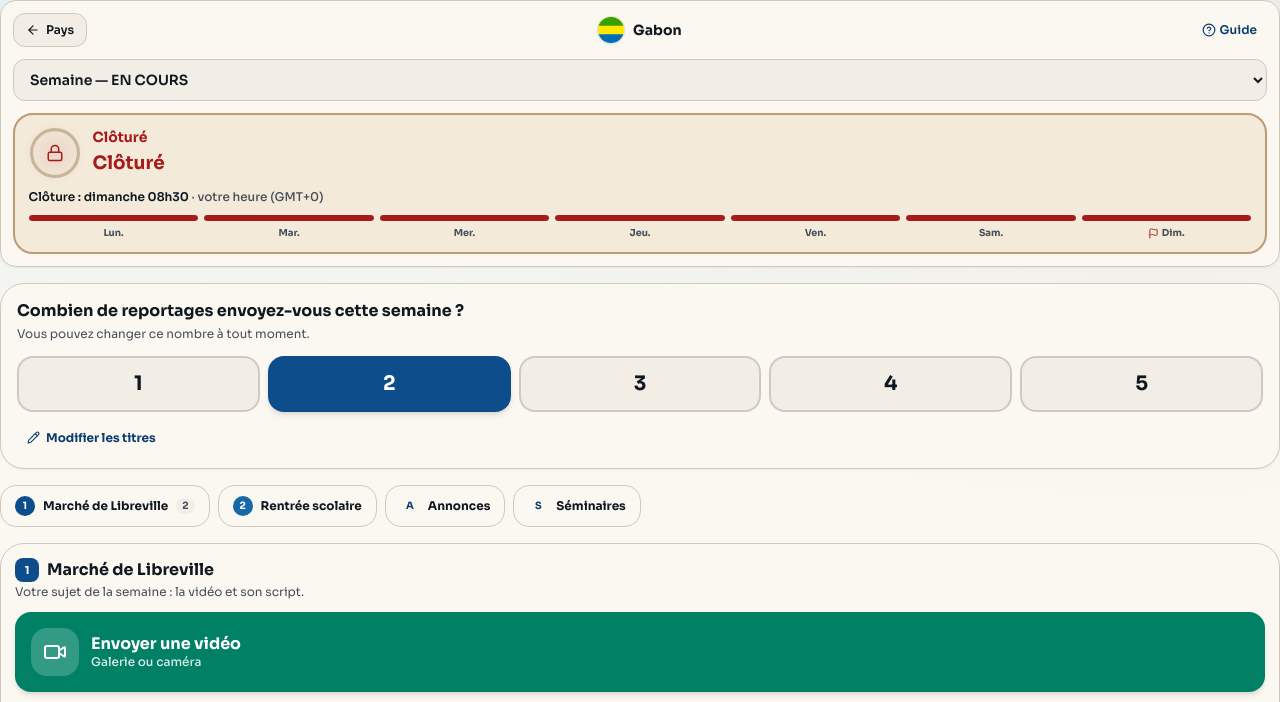
Test case: choisir le nombre de reportages › envoie tous les titres en une seule fois, existants d’abord
The image size is (1280, 702).
Click the button "3".
click(640, 384)  # box [519,356,761,412]
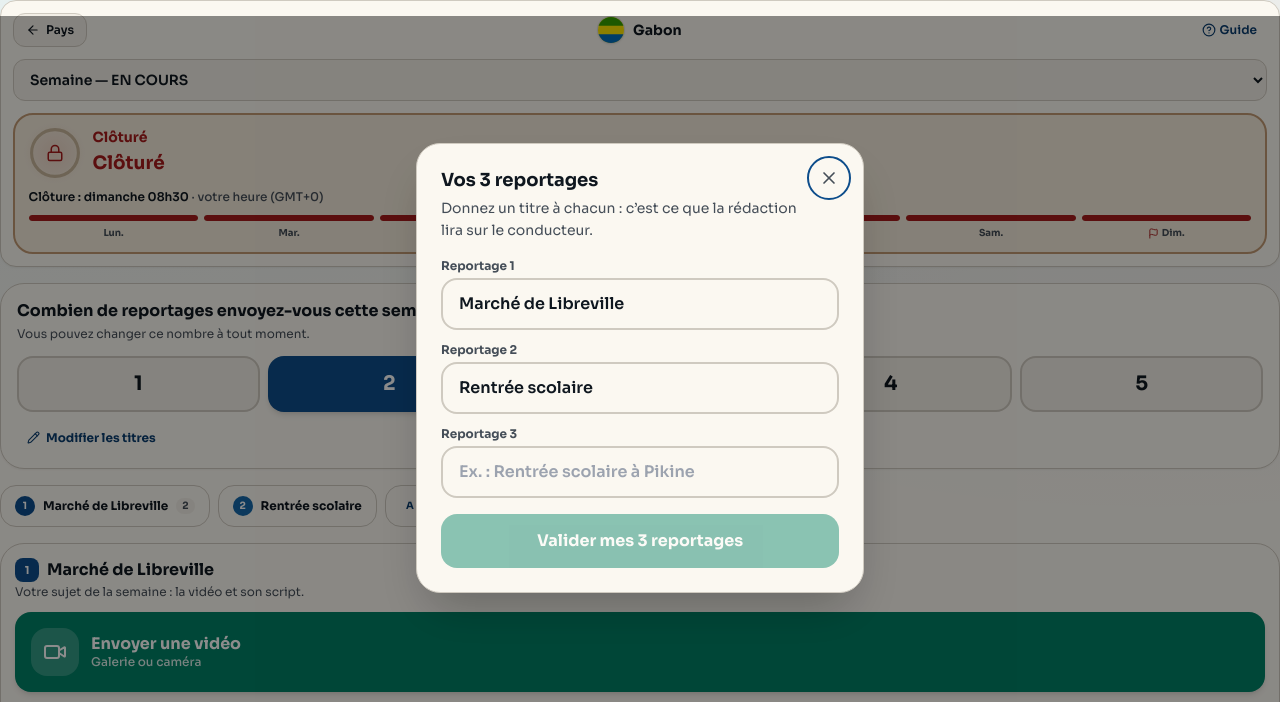
Type "  Le pont de Kango  " into the field labelled "Reportage 3".
click(640, 472); type("  Le pont de Kango  ")  # box [441,446,839,498]
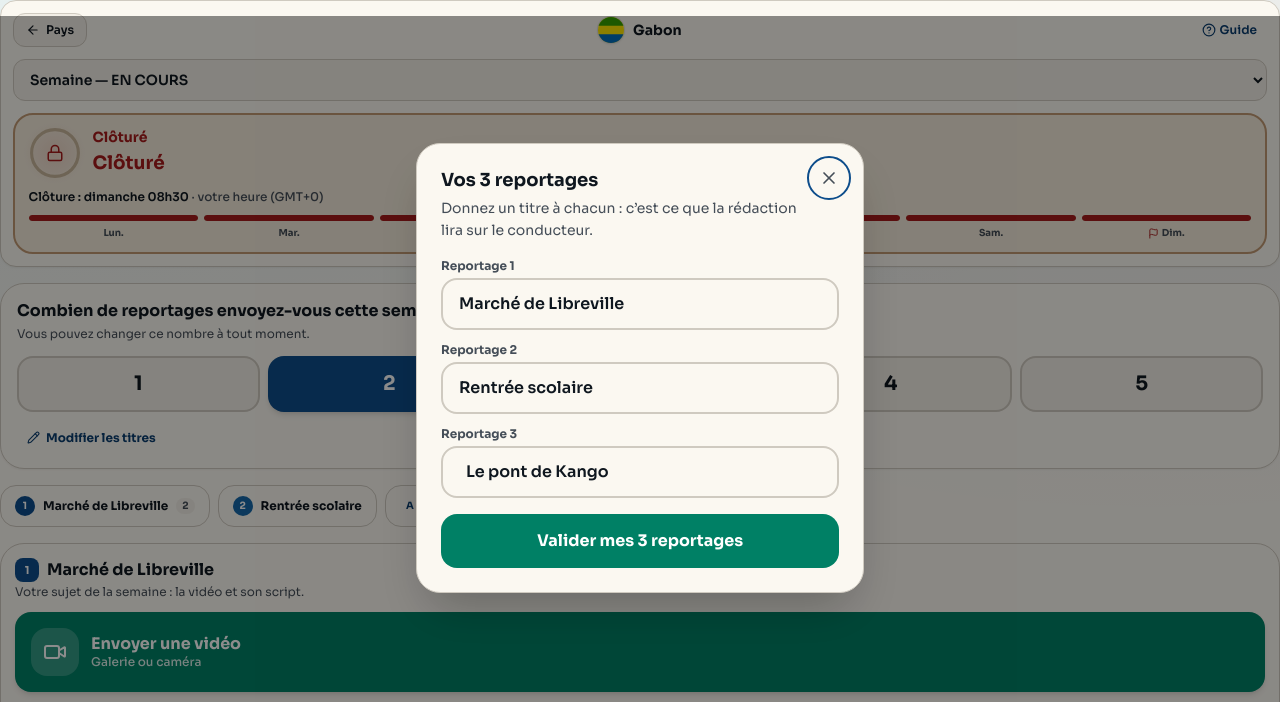
Click the button "Valider mes 3 reportages".
click(640, 541)  # box [441,514,839,568]
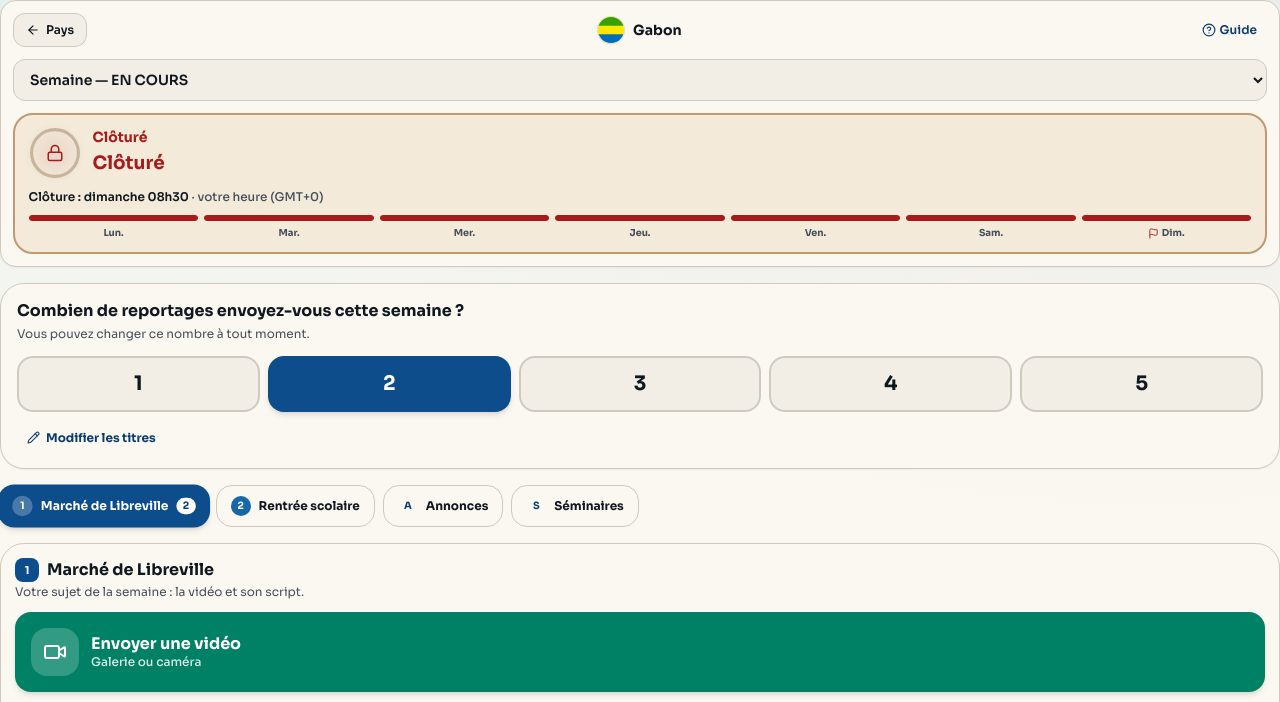
Check: the dialog is gone
